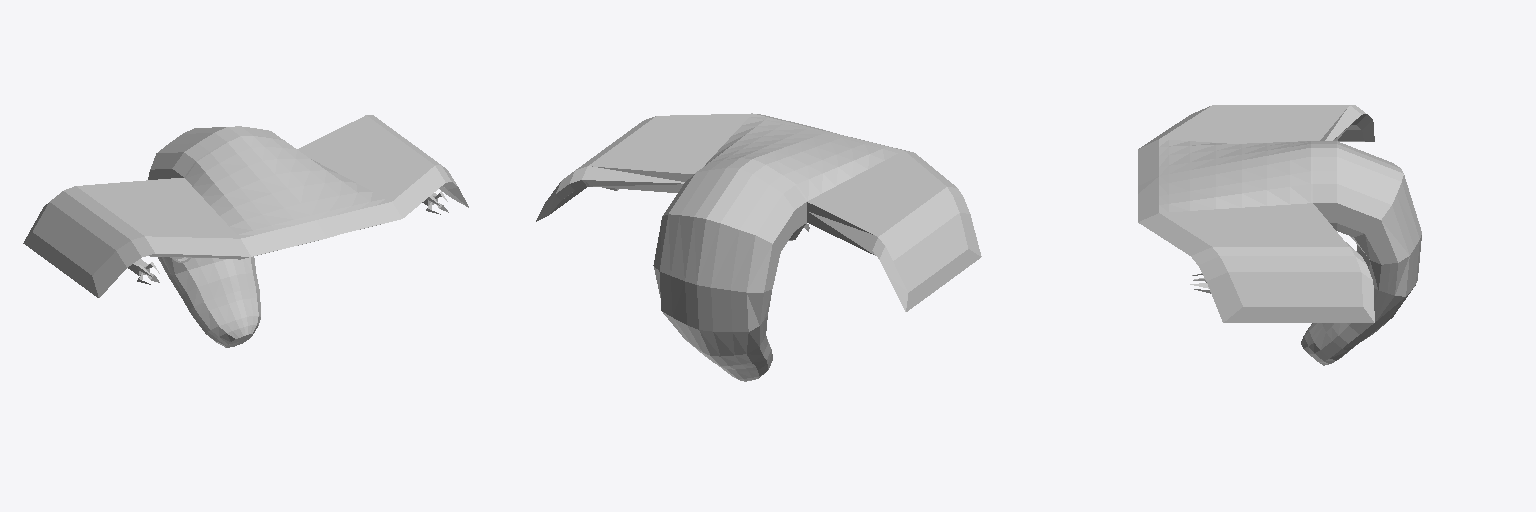
The model's file is walker.obj.
3 views of the same model, side by side, from view 1: azimuth 30°, elevation 25°; view 2: azimuth 150°, elevation 25°; view 3: azimuth 270°, elevation 25° (orthographic).
Visible parts, largest first — view 1: group5_pasted__group3_pasted__pasted__group1_pasted__pasted__pas; view 2: group5_pasted__group3_pasted__pasted__group1_pasted__pasted__pas; view 3: group5_pasted__group3_pasted__pasted__group1_pasted__pasted__pas.
Part boxes in pixels (left/top/right/bottom): group5_pasted__group3_pasted__pasted__group1_pasted__pasted__pas: left=23, top=115, right=468, bottom=347; group5_pasted__group3_pasted__pasted__group1_pasted__pasted__pas: left=536, top=113, right=981, bottom=381; group5_pasted__group3_pasted__pasted__group1_pasted__pasted__pas: left=1138, top=105, right=1421, bottom=365.
Size of the model in its own units: 5.32 by 2.97 by 3.54.